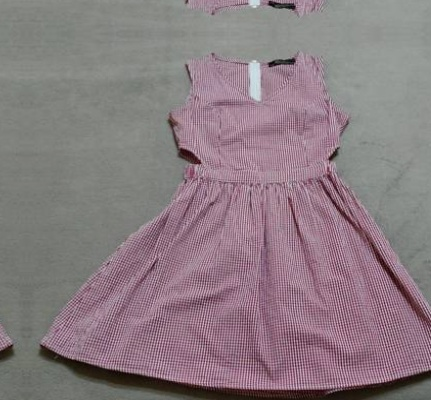Dress: (41, 44, 431, 400), (42, 0, 431, 23), (0, 44, 11, 400), (0, 0, 11, 23)
